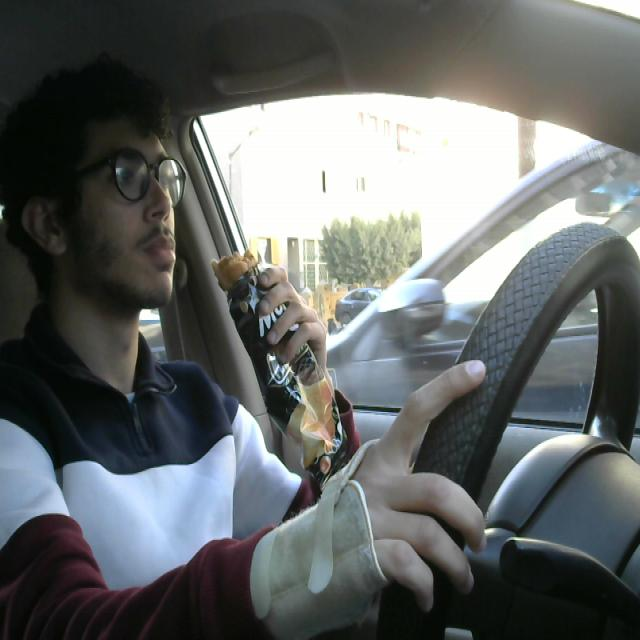eating: (206, 239, 358, 513)
